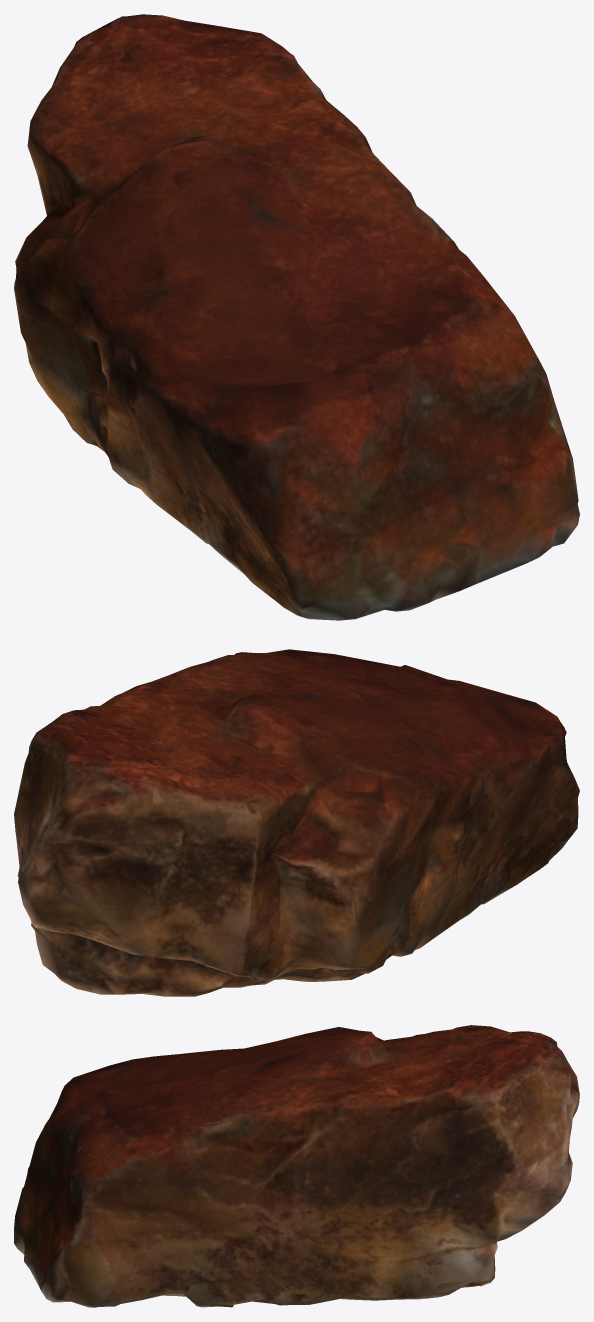
The model's file is rock.glb.
3 views of the same model, one above another, from view 1: azimuth 30°, elevation 25°; view 2: azimuth 150°, elevation 25°; view 3: azimuth 270°, elevation 25° (orthographic). The views are drawn at different scales.
Visible parts, largest first — view 1: body; view 2: body; view 3: body.
Part boxes in pixels (bbox=[...]): body: bbox=[14, 14, 579, 620]; body: bbox=[14, 649, 579, 996]; body: bbox=[14, 1025, 579, 1307].
Size of the model in its own units: 4.2 by 3.59 by 7.99.
Materials: 1 (1 with a texture image).
